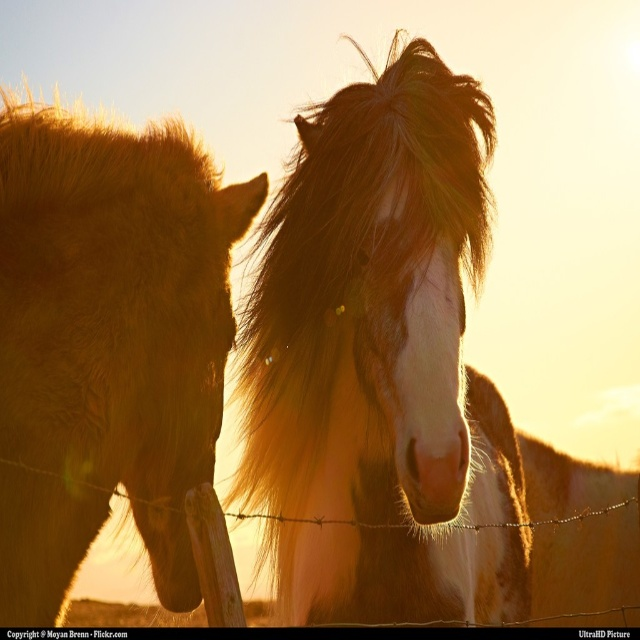Horse: (213, 26, 640, 625), (0, 73, 269, 627)
